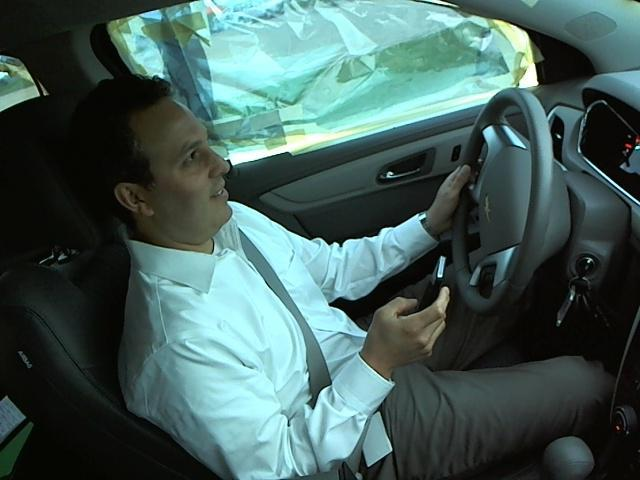PhoneUse: (412, 251, 450, 323)
